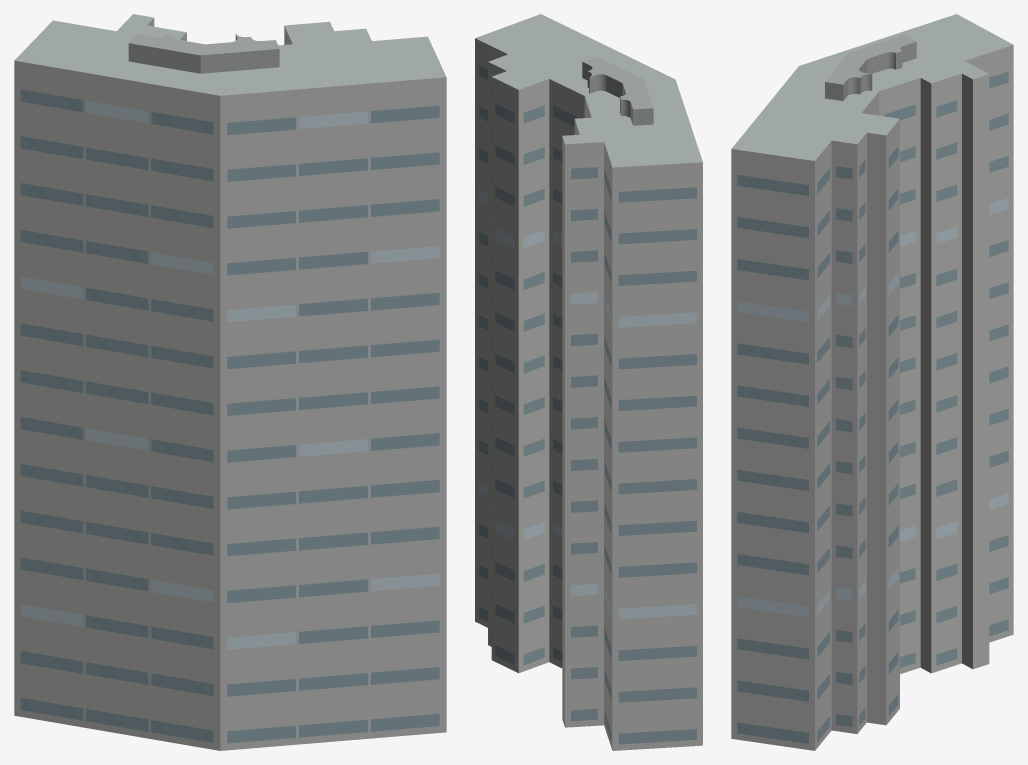
Rendered from fallback-dh-honor-hills-322.glb.
3 views of the same model, side by side, from view 1: azimuth 30°, elevation 25°; view 2: azimuth 150°, elevation 25°; view 3: azimuth 270°, elevation 25° (orthographic). The views are drawn at different scales.
Visible parts, largest first — view 1: fallback-dh-honor-hills-322; view 2: fallback-dh-honor-hills-322; view 3: fallback-dh-honor-hills-322.
Boxes of the visible parts, bbox=[...] form: fallback-dh-honor-hills-322: bbox=[14, 14, 446, 750]; fallback-dh-honor-hills-322: bbox=[475, 14, 702, 750]; fallback-dh-honor-hills-322: bbox=[731, 14, 1013, 750].
Size of the model in its own units: 45.77 by 88 by 37.1.
